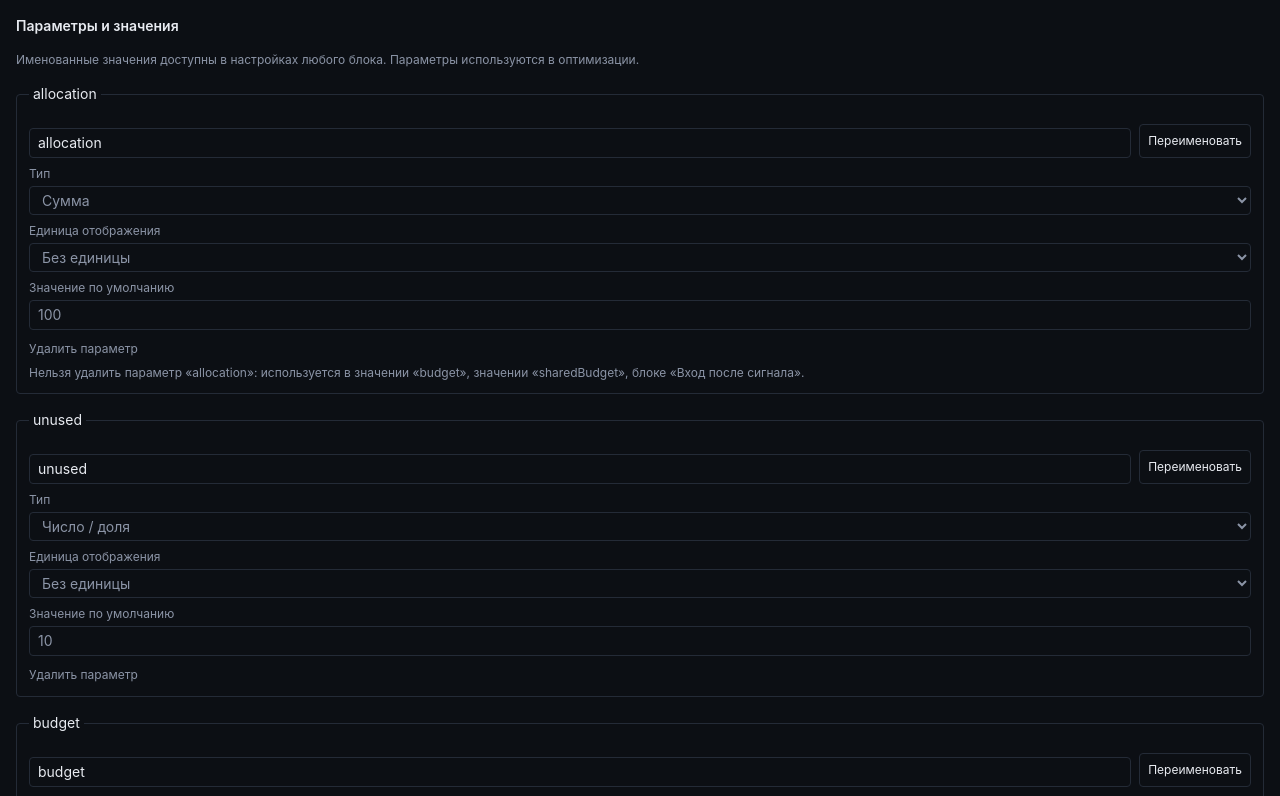
Test: selects percentage metadata and keeps edited defaults as fractions for saving
Select "Проценты (%)" in the dropdown named "Единица параметра unused" at x=640, y=584, box [29,569,1251,598]
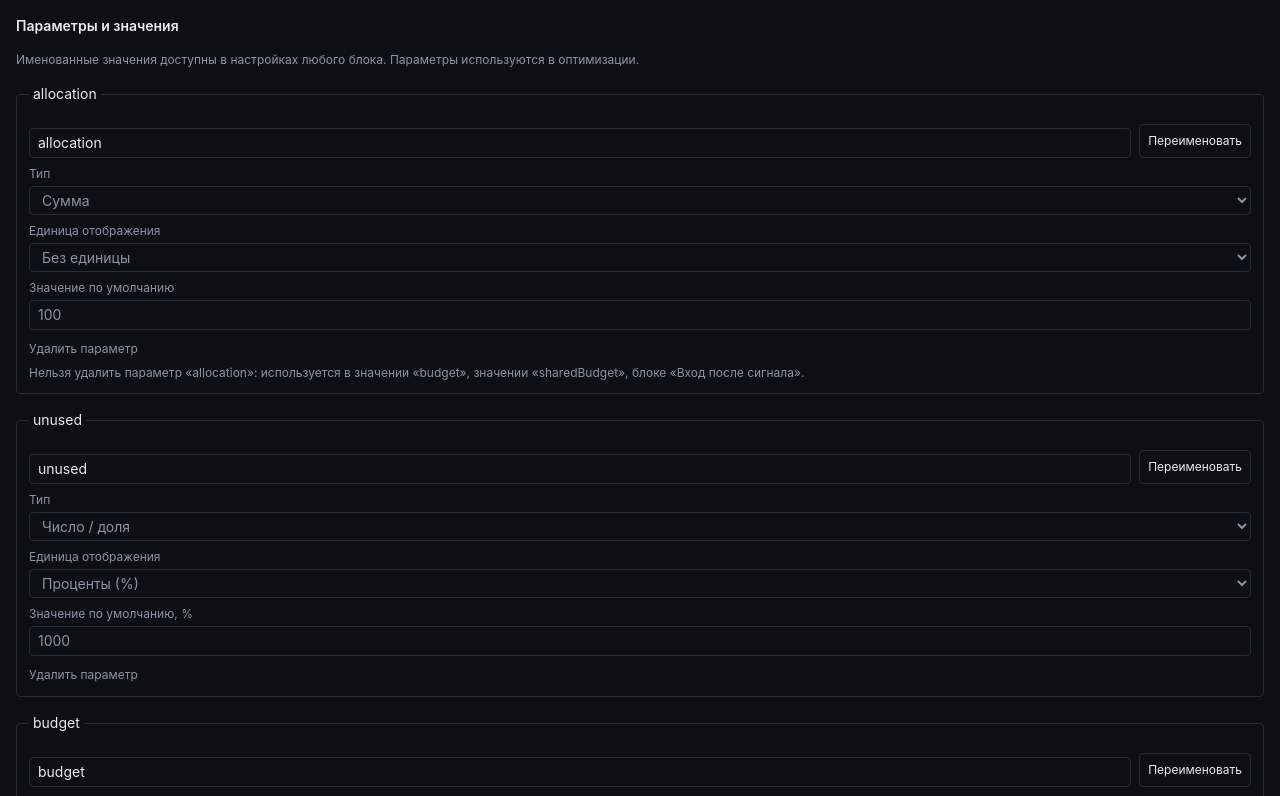
Expected: the field named "Значение параметра unused, %" holds "1000"
Replace the text in the field named "Значение параметра unused, %" with "0.18" at x=640, y=641, box [29,626,1251,656]
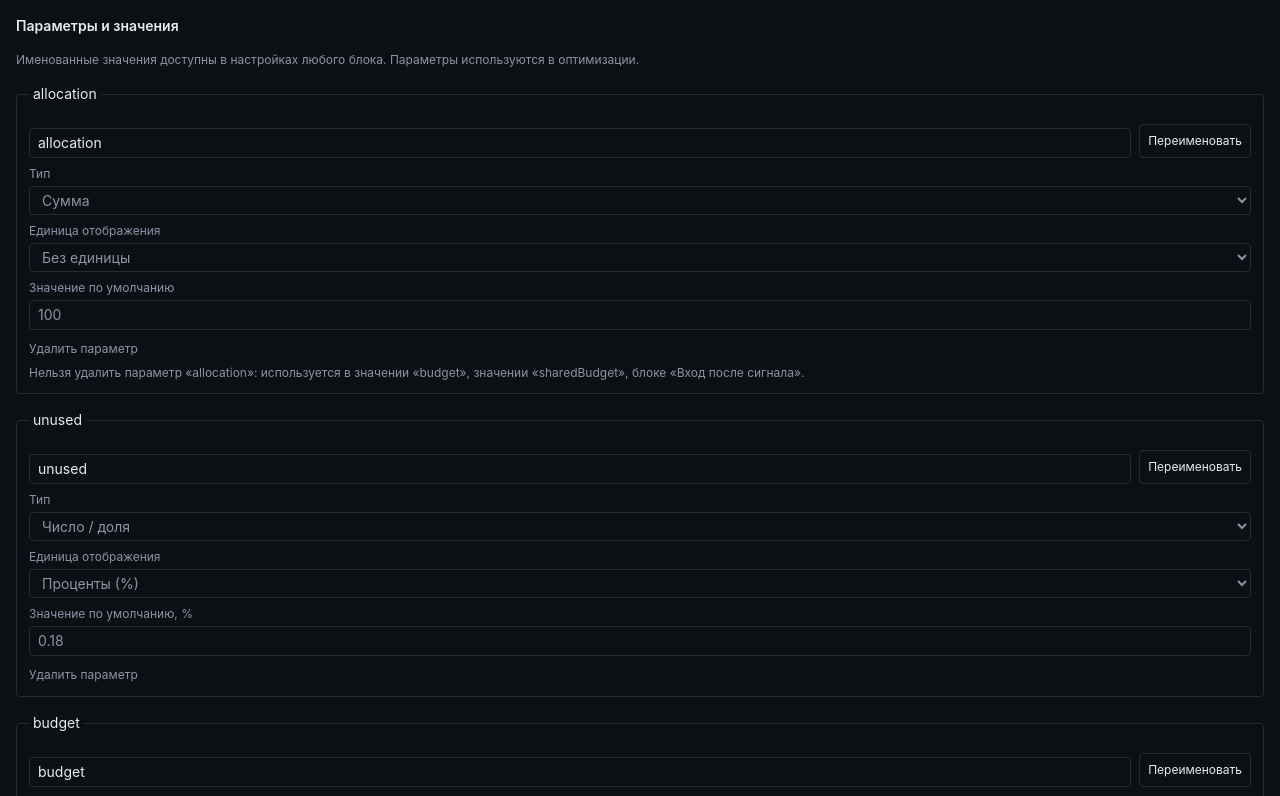
Select "Без единицы" in the dropdown named "Единица параметра unused" at x=640, y=584, box [29,569,1251,598]
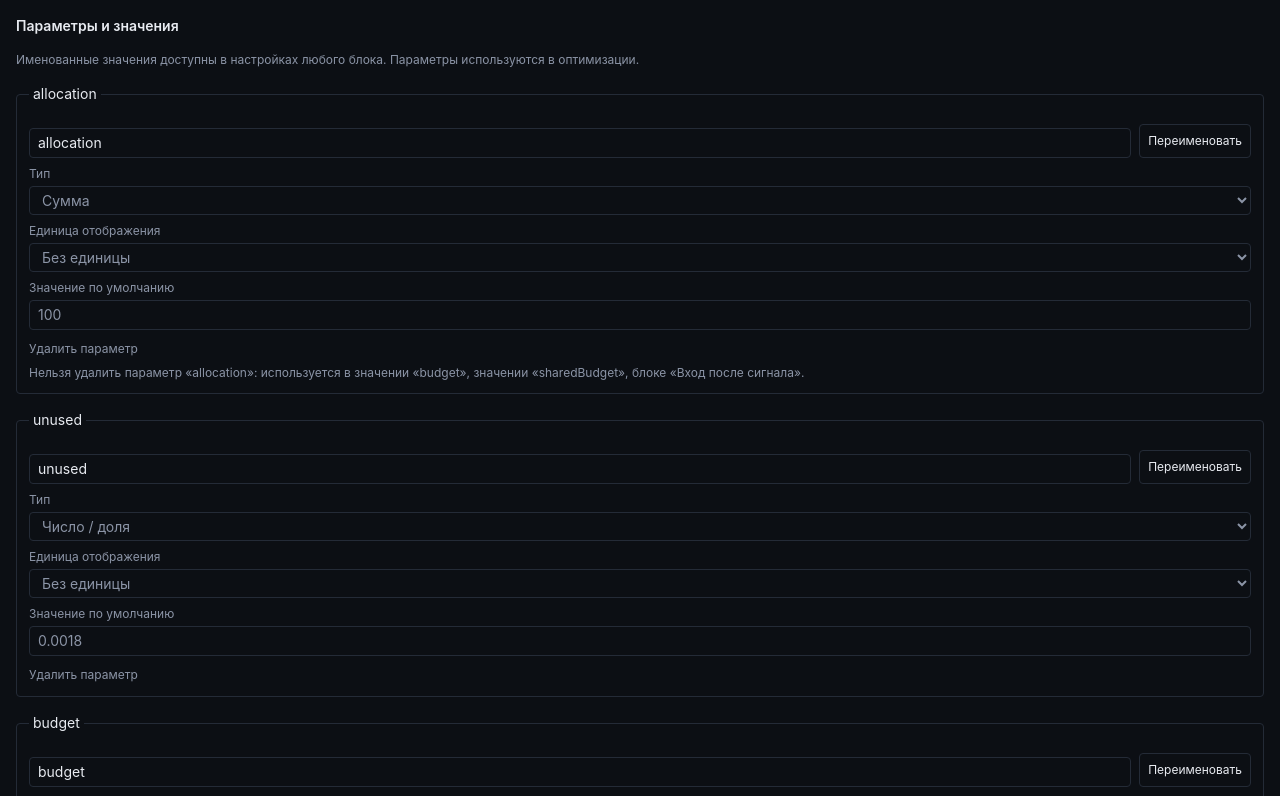
Expected: the field named "Значение параметра unused" holds "0.0018", [29,626,1251,656]
